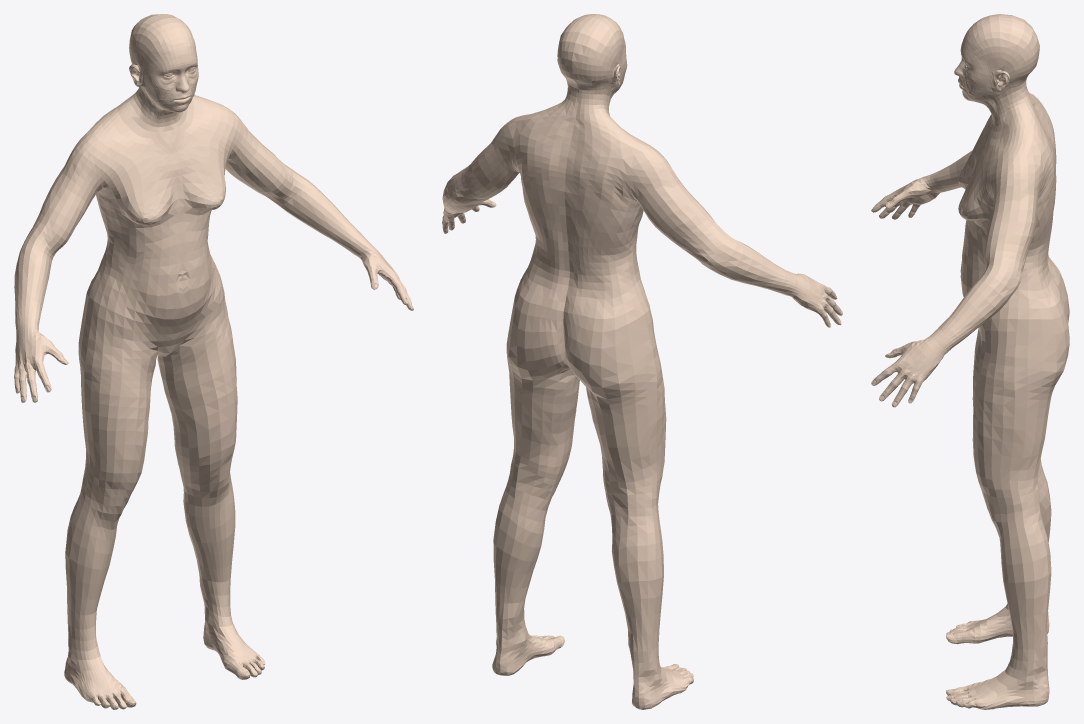
The model's file is female-older-max-strong.glb.
The picture shows the model from 3 angles, left to right: view 1: azimuth 30°, elevation 25°; view 2: azimuth 150°, elevation 25°; view 3: azimuth 270°, elevation 25°; orthographic projection.
Visible parts, largest first — view 1: world; view 2: world; view 3: world.
Boxes of the visible parts, x1,y1,x2,y2 form: world: [14, 14, 413, 709]; world: [442, 14, 842, 709]; world: [871, 14, 1069, 709].
Size of the model in its own units: 1.15 by 1.85 by 0.5088.
